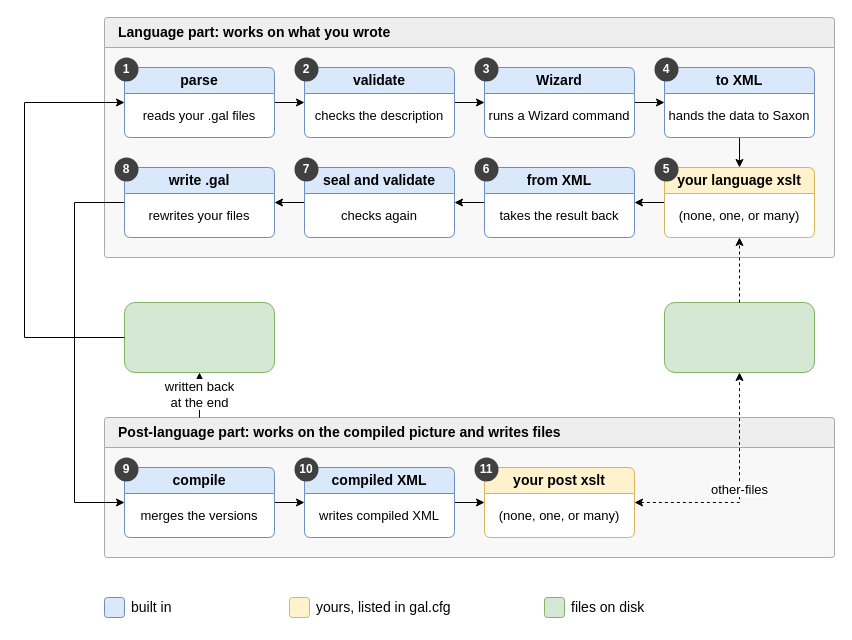
Some shapes in this 852 by 640 pixel diagram are drawn without their labels. Here are the shapes that lost their labels. From the top down, the centre of each, then its label:
At [199,337]: "your .gal files (read, then rewritten)".
At [739,337]: "generated files (code, docs, ...)".
